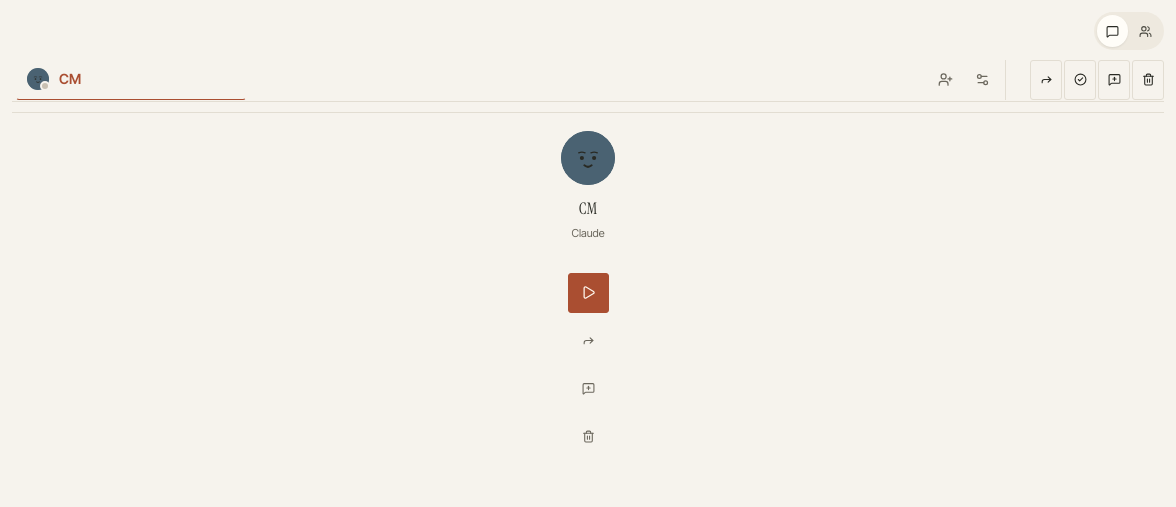
Scenario: B3.1: el toggle de la columna › y se vuelve a la conversación por el mismo lugar
Click the button with class "team-rail-team": (1146,31) [1130, 15, 1161, 47]
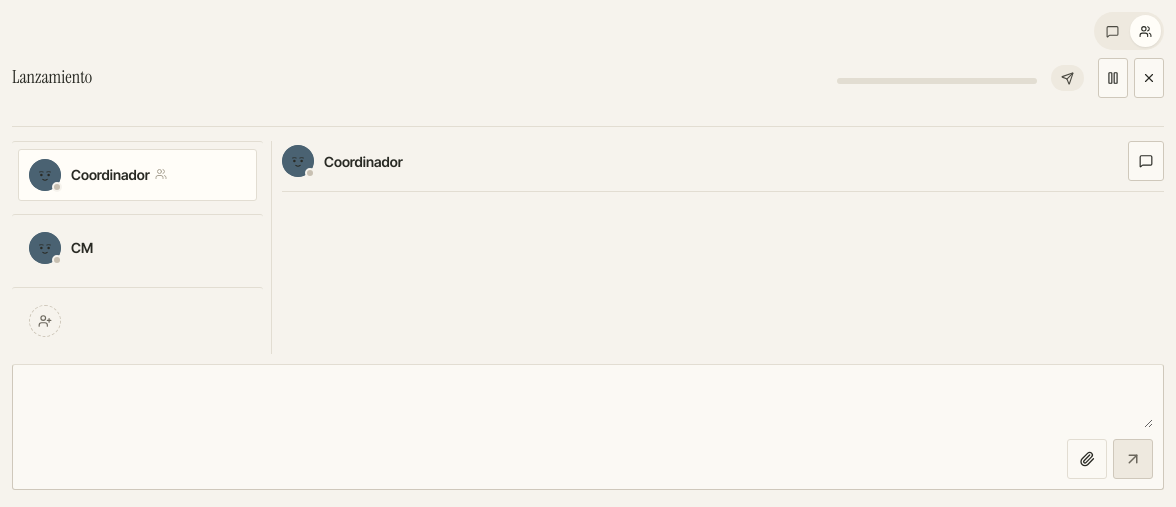
Click the button with class "team-rail-chat": (1112,31) [1097, 15, 1128, 47]
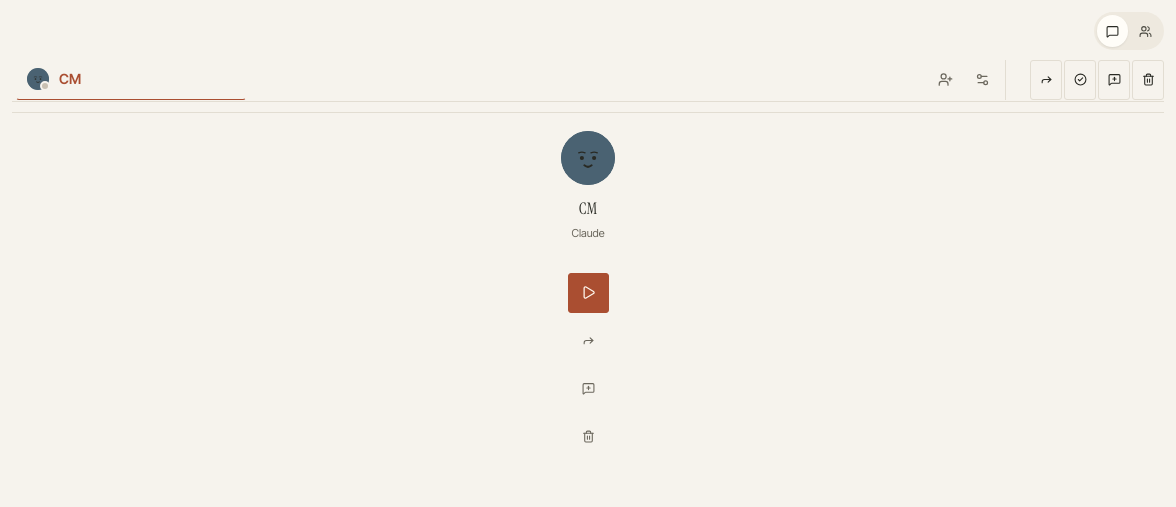
Expected: the element with class "team-tab-strip" is shown, [16, 58, 246, 100]
